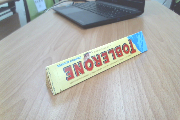Chocolate: (35, 29, 158, 99)
